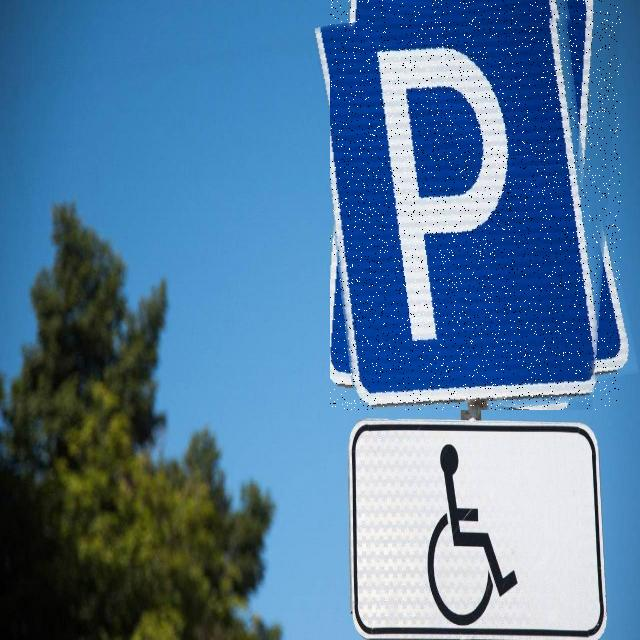parking: (330, 0, 621, 410)
